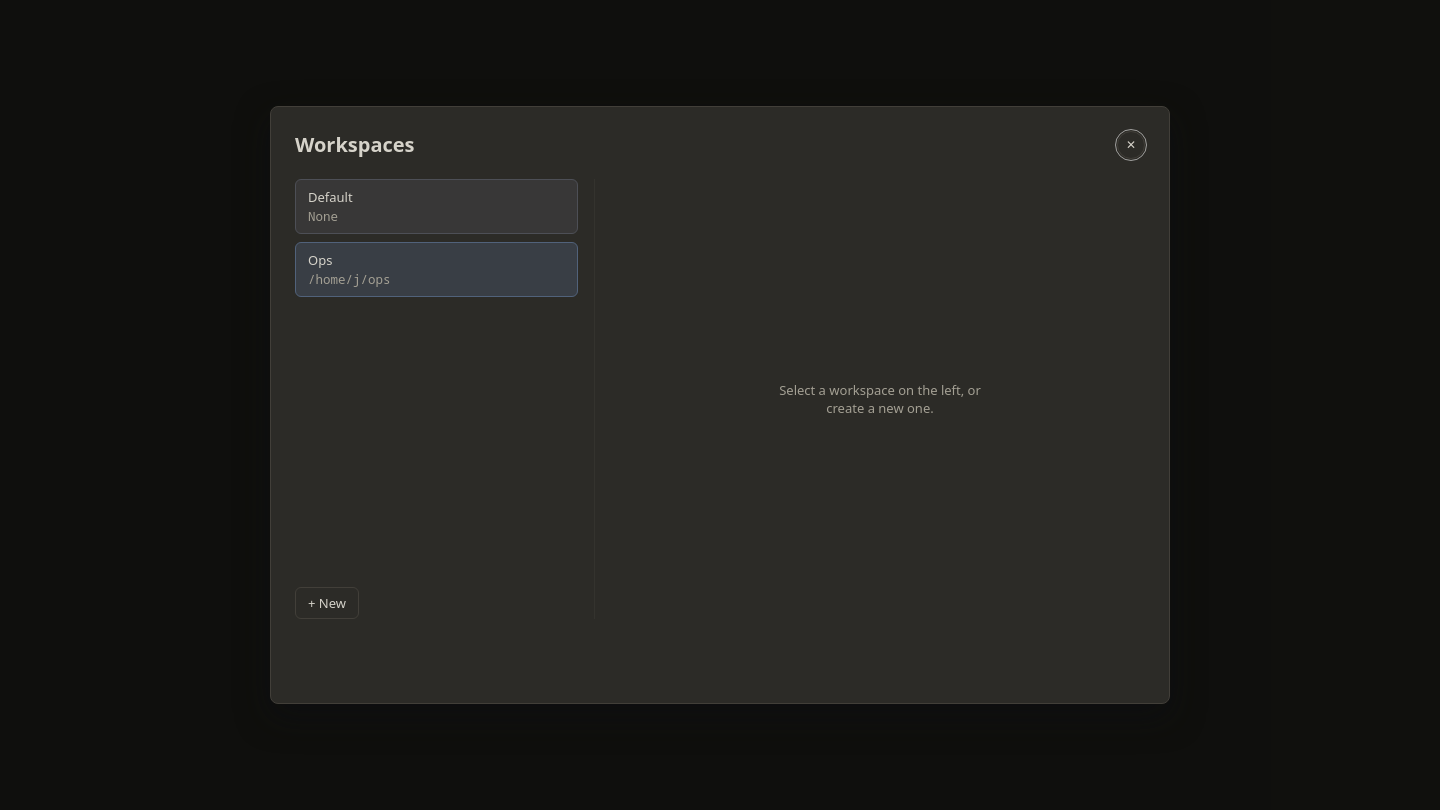
Test: WorkspacesDialog › offers no delete for the Default workspace
Click the button with test id "workspace-select-default".
click(330, 197)  # box [296,180,577,233]
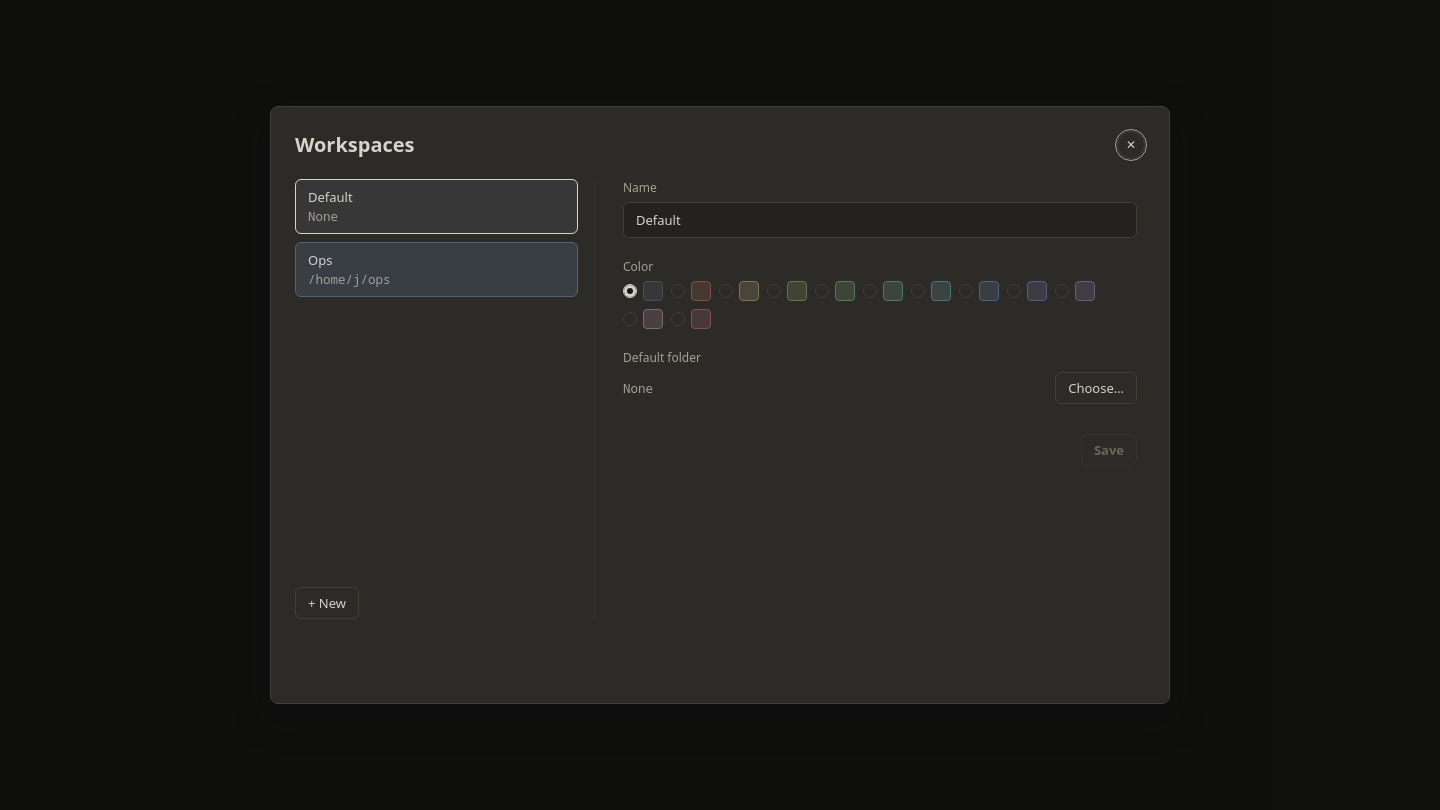
Result: the form with test id "workspace-form" is shown at [615,179,1145,619]
